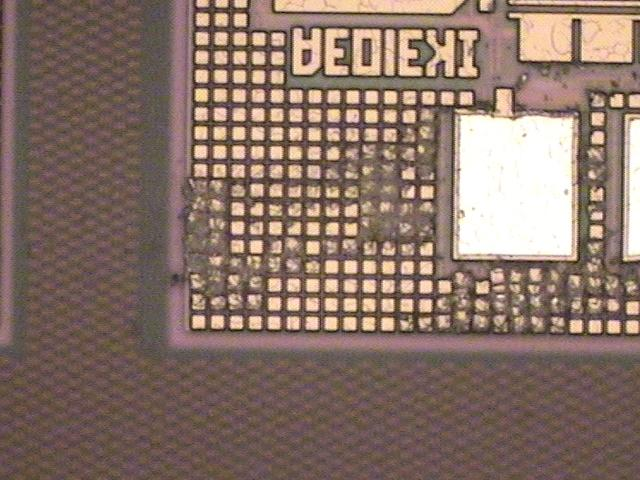SCRATCH: (166, 62, 640, 349)
